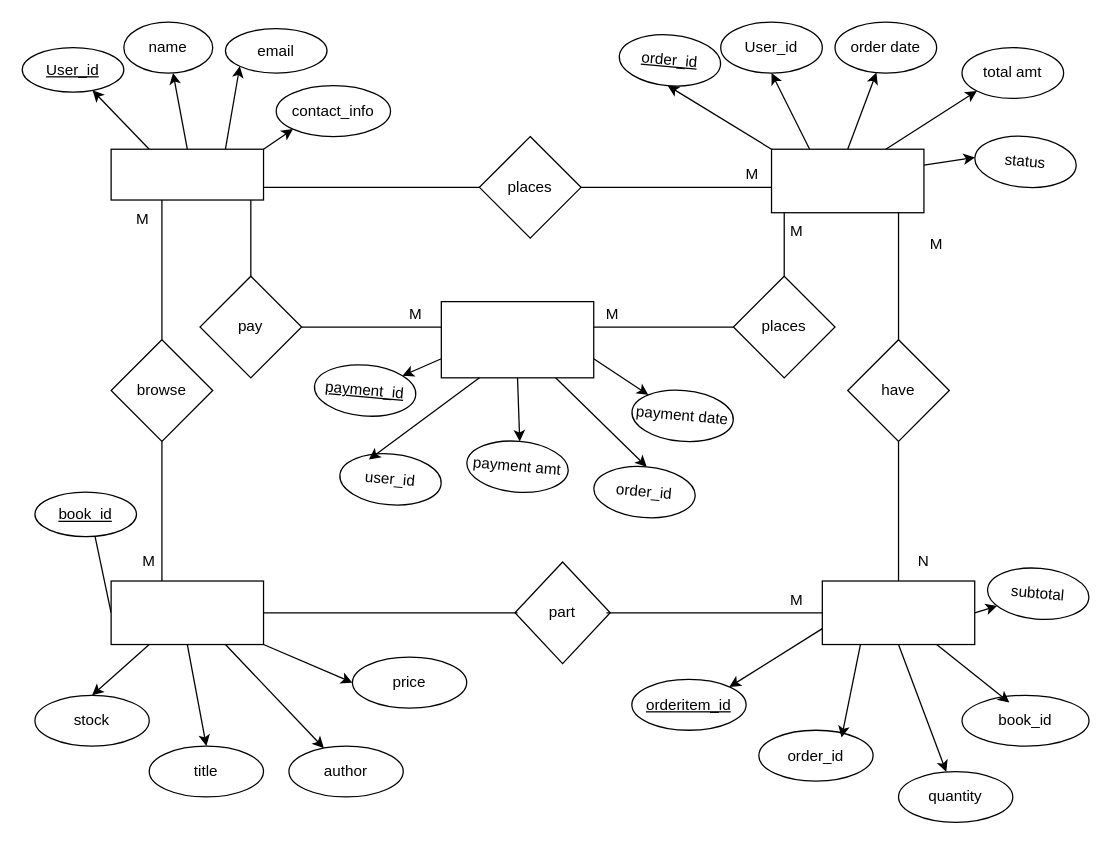
This 1114x845 diagram has some shape labels left out. The shapes that lost their labels are listed below. From the top down, each one's centre as x and y in pixels, then its label:
(187,174): User
(847,180): Order
(517,339): Payment
(187,612): Book
(898,612): Order Item
